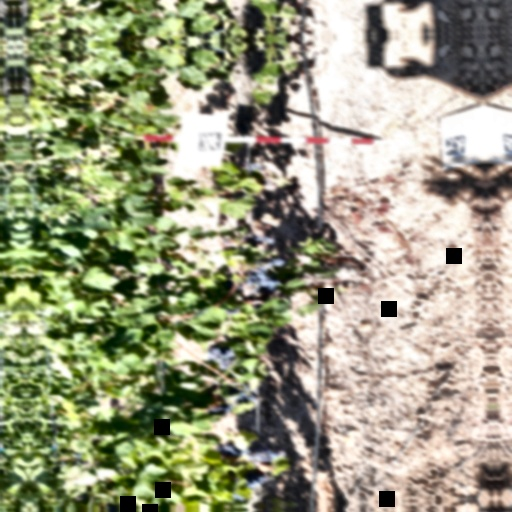QR: (443, 136, 466, 158), (199, 134, 220, 153)
